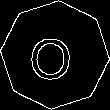O_N: (31, 28, 79, 82)
